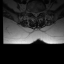CCS_normal: (35, 10, 37, 18)
LFS_stenosis: (39, 10, 41, 14)
LLS_normal: (37, 10, 39, 17)
RFS_normal: (31, 10, 33, 15)
RLS_normal: (33, 10, 35, 17)
